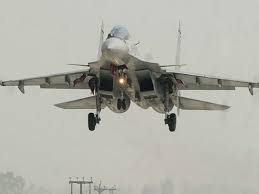fighter: (1, 14, 257, 135)
